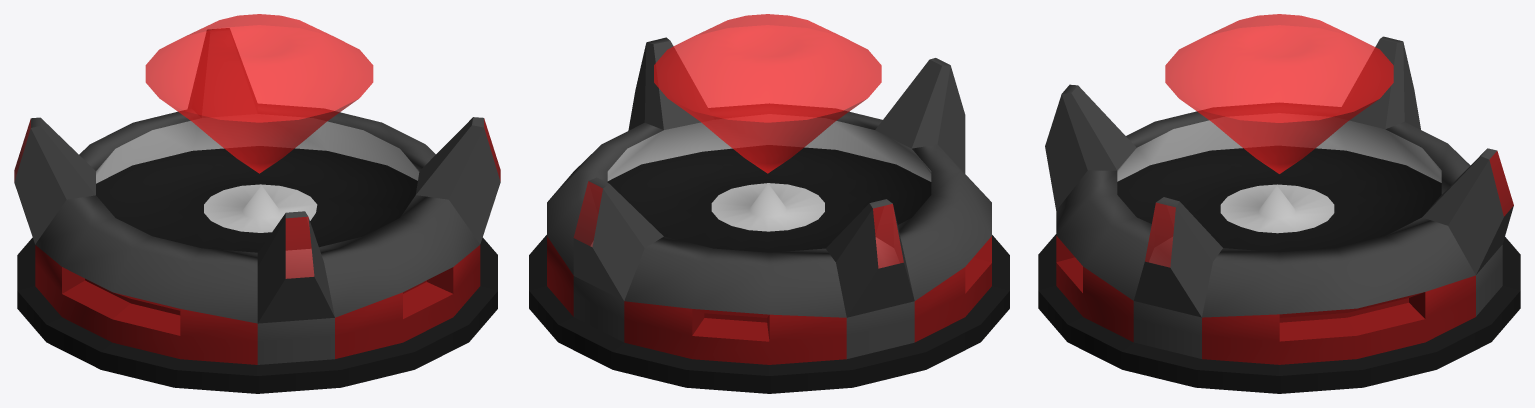
File: MainTower.FBX
3 views of the same model, side by side, from view 1: azimuth 30°, elevation 25°; view 2: azimuth 150°, elevation 25°; view 3: azimuth 270°, elevation 25° (orthographic).
Parts seen in each view (by area): view 1: Cylinder001, Cylinder002; view 2: Cylinder001, Cylinder002; view 3: Cylinder001, Cylinder002.
Part boxes in pixels (x1,y1,x2,y2): Cylinder001: (14, 28, 500, 393); Cylinder002: (145, 14, 373, 173); Cylinder001: (529, 37, 1009, 393); Cylinder002: (654, 14, 881, 173); Cylinder001: (1038, 36, 1520, 393); Cylinder002: (1165, 14, 1393, 173).
Size of the model in its own units: 96.68 by 54.64 by 95.21.
